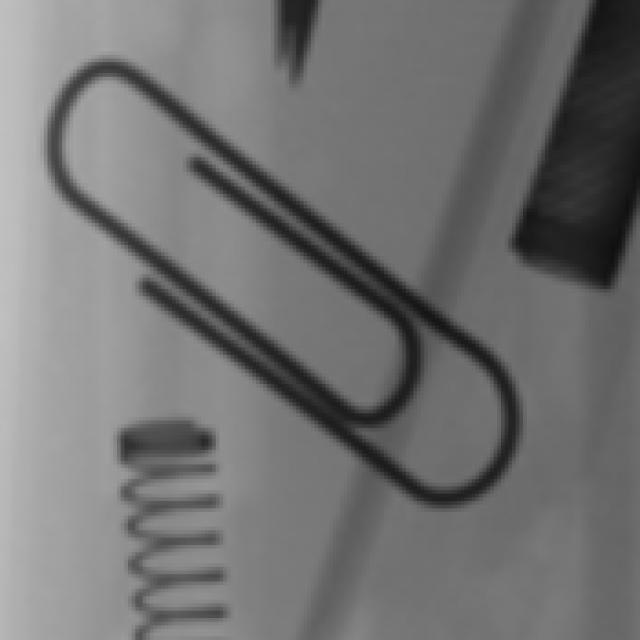GUN: (502, 6, 640, 274)
